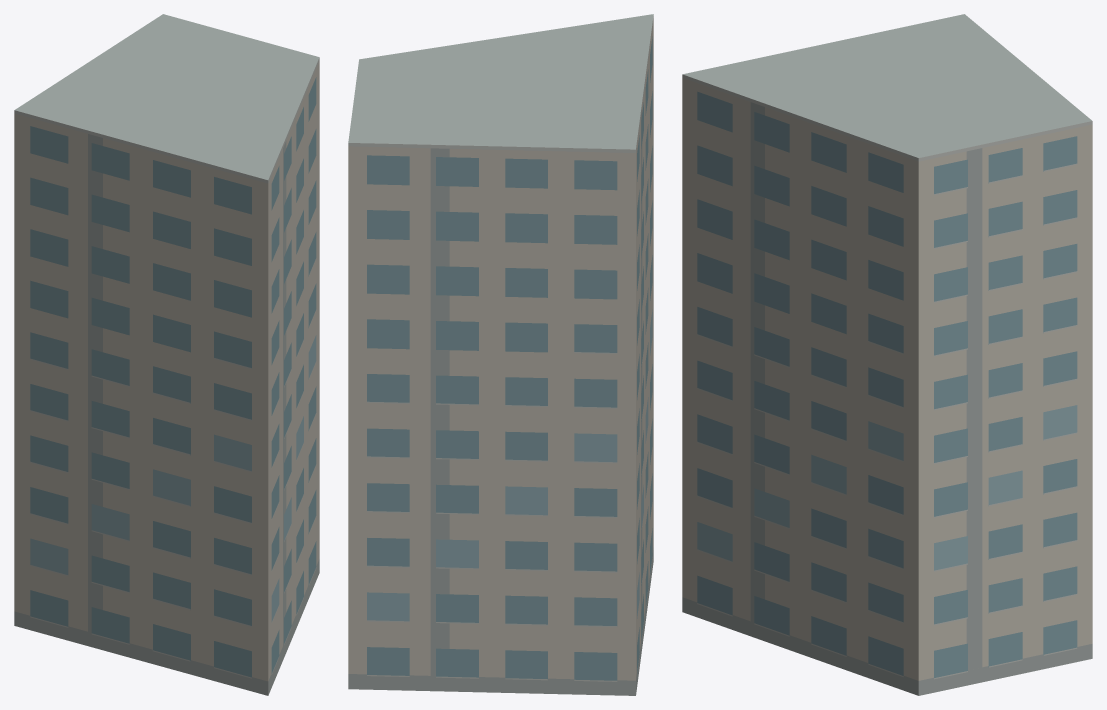
Rendered from residential-2c6a74f4-56b2-42f6-99df-a2281b1abd49.glb.
3 renders of one model, left to right at view 1: azimuth 30°, elevation 25°; view 2: azimuth 150°, elevation 25°; view 3: azimuth 270°, elevation 25°, orthographic. The views are drawn at different scales.
Visible parts, largest first — view 1: residential-2c6a74f4-56b2-42f6-99df-a2281b1abd49.tmp; view 2: residential-2c6a74f4-56b2-42f6-99df-a2281b1abd49.tmp; view 3: residential-2c6a74f4-56b2-42f6-99df-a2281b1abd49.tmp.
Part boxes in pixels (x1,y1,x2,y2): residential-2c6a74f4-56b2-42f6-99df-a2281b1abd49.tmp: (14, 14, 319, 695); residential-2c6a74f4-56b2-42f6-99df-a2281b1abd49.tmp: (348, 14, 653, 695); residential-2c6a74f4-56b2-42f6-99df-a2281b1abd49.tmp: (682, 14, 1092, 695).
Size of the model in its own units: 21.85 by 38 by 26.28.
